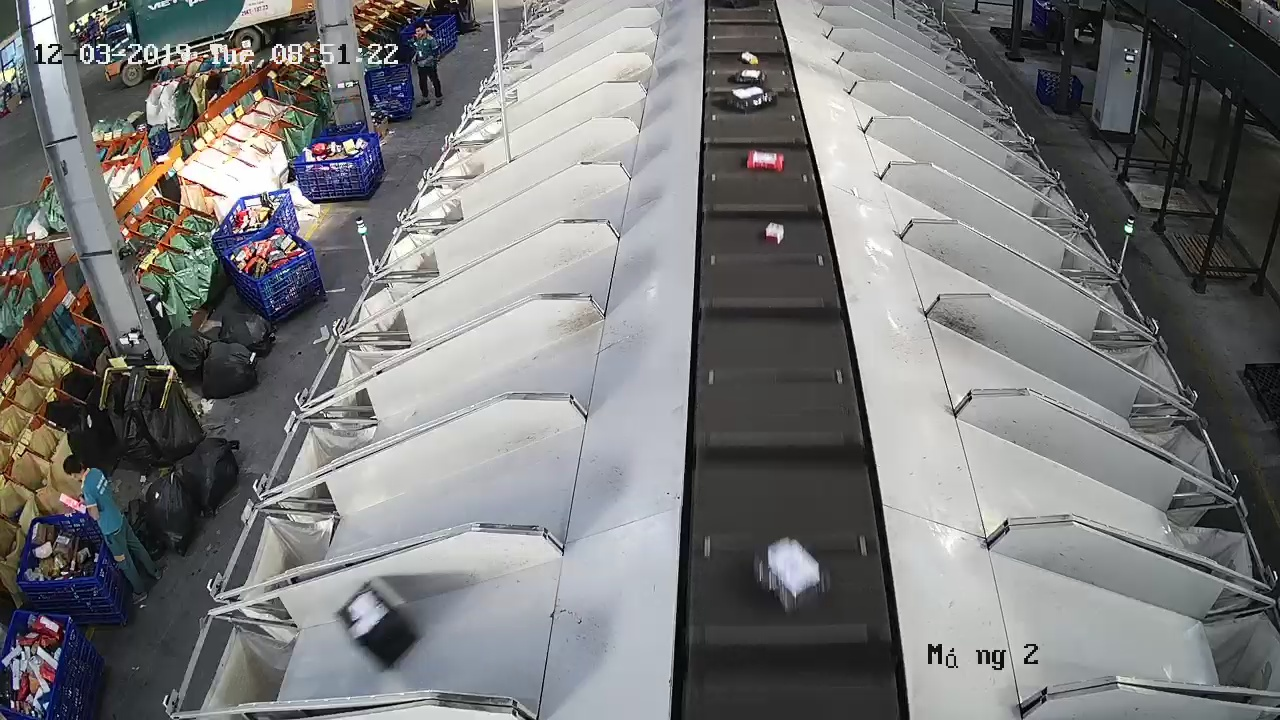parcel: (330, 580, 419, 669)
